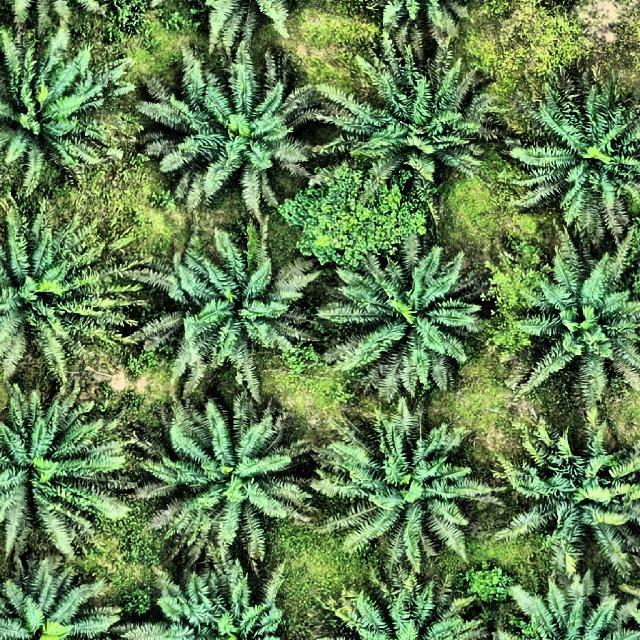Kelapa_Sawit: (0, 200, 130, 378), (331, 245, 483, 394), (325, 419, 481, 561), (162, 408, 304, 558), (1, 400, 130, 556), (346, 50, 482, 197), (168, 244, 314, 376), (504, 425, 640, 561), (0, 33, 114, 186), (533, 253, 640, 406), (182, 68, 306, 198), (534, 89, 640, 230), (332, 569, 488, 640), (148, 573, 290, 640), (504, 575, 640, 640), (6, 569, 116, 640)
